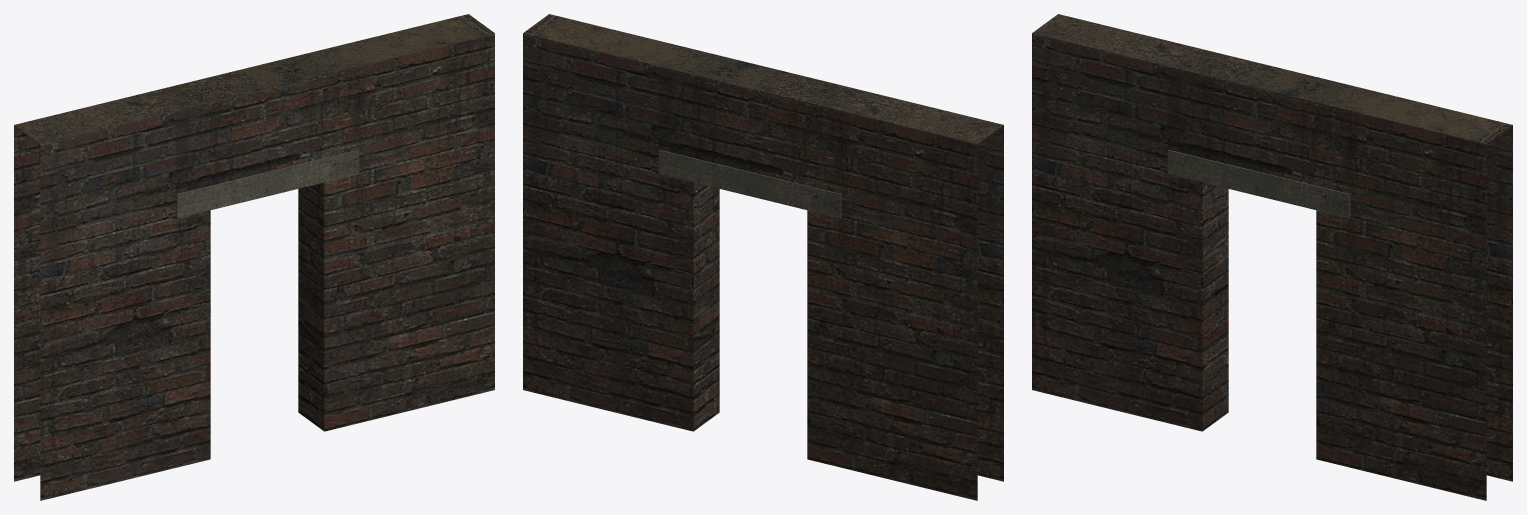
File: doorway_hs_1_regular.dae
3 views of the same model, side by side, from view 1: azimuth 30°, elevation 25°; view 2: azimuth 150°, elevation 25°; view 3: azimuth 330°, elevation 25° (orthographic).
Parts seen in each view (by area): view 1: doorway_hs_1_regular; view 2: doorway_hs_1_regular; view 3: doorway_hs_1_regular.
Part boxes in pixels (box(x1,y1,x2,y2)): doorway_hs_1_regular: box(14, 14, 494, 500); doorway_hs_1_regular: box(523, 14, 1003, 500); doorway_hs_1_regular: box(1032, 14, 1512, 500).
Bounding box in the file's own units: 4 × 0.42 × 3.
Materials: 3 (3 with a texture image).
